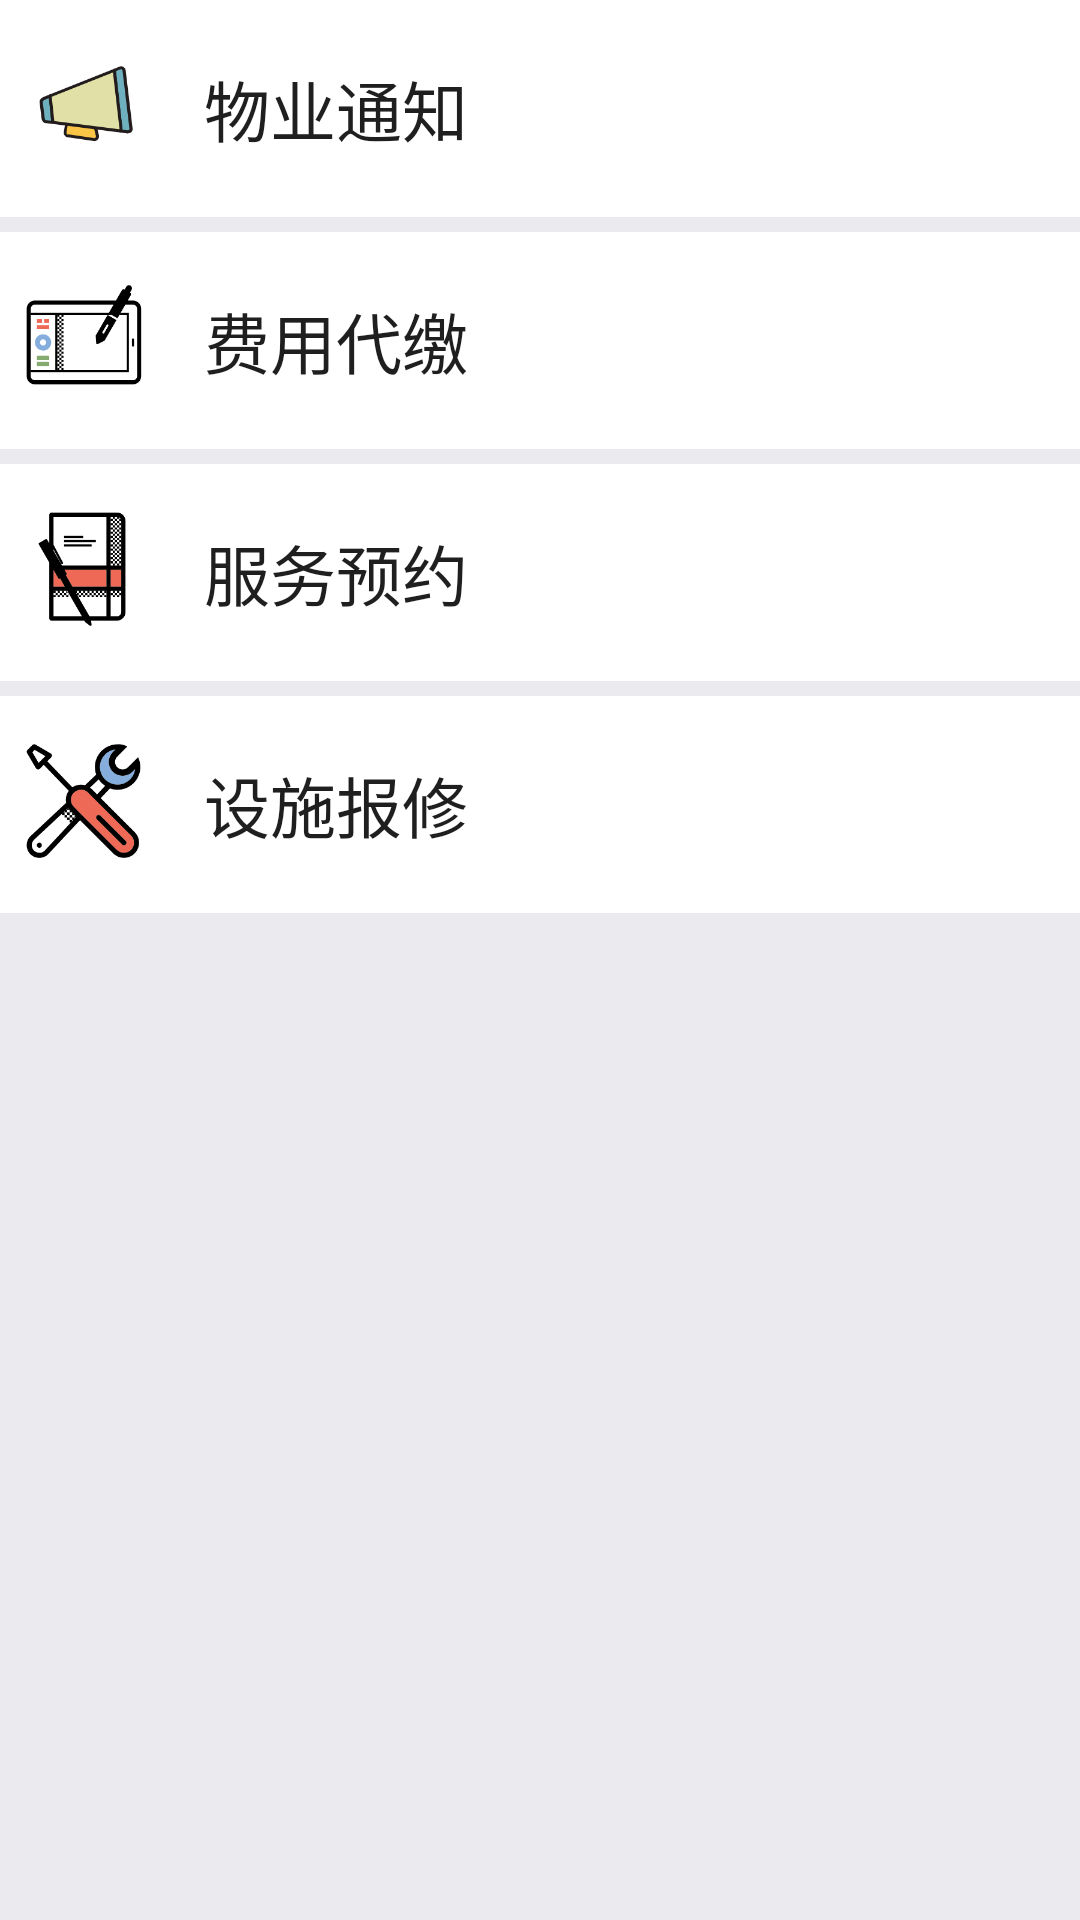

Where to tap for icons on this 1080 x 1920 app screen, as (x=x, y=y):
weixiu: (x=83, y=801)
wuyetongzhi: (x=86, y=104)
yuyue: (x=82, y=569)
